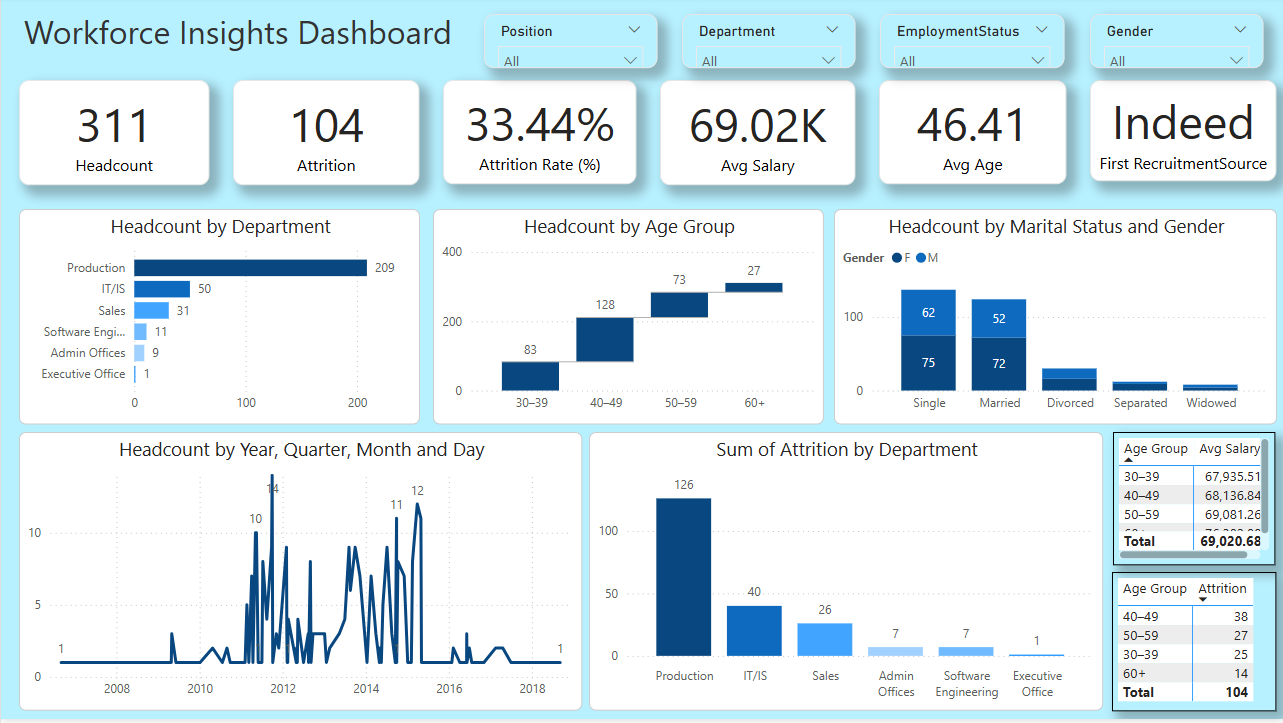

Layout of this report page (visuals, bound fields, positions):
{"tool":"powerbi","page":{"name":"Mainboard","canvas":[1280,720],"ordinal":0},"visuals":[{"type":"card","fields":{"Values":["Measures (2).Headcount"]},"box":[18.4,82.5,189.7,105.4],"z":0},{"type":"card","fields":{"Values":["Measures (2).Total Terminated Employees"]},"box":[231.5,82.5,186.1,105.4],"z":1000},{"type":"card","fields":{"Values":["Measures (2).Attrition Rate (%)"]},"box":[441,82.5,193.2,103.6],"z":2000},{"type":"card","fields":{"Values":["Measures (2).Average Salary"]},"box":[657.5,82.5,194.9,105.4],"z":3000},{"type":"card","fields":{"Values":["Min(HRDataset_v14.RecruitmentSource)"]},"box":[1086.1,82.5,186.1,101],"z":4000},{"type":"clusteredBarChart","fields":{"Y":["Measures (2).Headcount"],"Category":["HRDataset_v14.Department"]},"box":[18.4,211.6,400.4,215.1],"z":5000},{"type":"waterfallChart","fields":{"Category":["HRDataset_v14.Age Group","HRDataset_v14.DateofHire.Variation.Date Hierarchy.Year","HRDataset_v14.DateofHire.Variation.Date Hierarchy.Quarter","HRDataset_v14.DateofHire.Variation.Date Hierarchy.Month","HRDataset_v14.DateofHire.Variation.Date Hierarchy.Day"],"Y":["Measures (2).Headcount"]},"box":[431.1,211.6,389.9,215.1],"z":6000},{"type":"columnChart","title":"Headcount by Marital Status and Gender","fields":{"Y":["Measures (2).Headcount"],"Category":["HRDataset_v14.MaritalDesc"],"Series":["HRDataset_v14.Gender"]},"box":[830.6,211.6,441.7,215.1],"z":7000},{"type":"lineChart","fields":{"Y":["Measures (2).Headcount"],"Category":["HRDataset_v14.DateofHire.Variation.Date Hierarchy.Year","HRDataset_v14.DateofHire.Variation.Date Hierarchy.Quarter","HRDataset_v14.DateofHire.Variation.Date Hierarchy.Month","HRDataset_v14.DateofHire.Variation.Date Hierarchy.Day"]},"box":[18.4,433.8,562,278.3],"z":8000},{"type":"columnChart","fields":{"Y":["Sum(HRDataset_v14.Attrition)"],"Category":["HRDataset_v14.Department"]},"box":[586.5,433.8,512.8,278.3],"z":9000},{"type":"pivotTable","fields":{"Rows":["HRDataset_v14.Age Group"],"Values":["Measures (2).Avg Salary"]},"box":[1109.9,433.8,162.4,132.6],"z":10000},{"type":"pivotTable","fields":{"Rows":["HRDataset_v14.Age Group"],"Values":["Measures (2).Attrition"]},"box":[1108.1,573.4,164.2,138.7],"z":11000},{"type":"card","fields":{"Values":["Measures (2).Avg Age"]},"box":[875.8,82.5,187,104.5],"z":12000},{"type":"slicer","fields":{"Values":["HRDataset_v14.Gender"]},"box":[1086.1,16.7,173,53.6],"z":13000},{"type":"slicer","fields":{"Values":["HRDataset_v14.EmploymentStatus"]},"box":[877.2,16.7,184.4,53.6],"z":14000},{"type":"slicer","fields":{"Values":["HRDataset_v14.Department"]},"box":[679.6,16.7,173,53.6],"z":15000},{"type":"slicer","fields":{"Values":["HRDataset_v14.Position"]},"box":[482,16.7,173,53.6],"z":16000},{"type":"textbox","box":[18.4,7,463.6,63.2],"z":17000}]}

Visuals, with their boxes in screenshot pixels (x1, y1, x2, y2), scaled from the page's 1280x720 canvas onto the 1283x723 screenshot:
card - Measures (2).Headcount: 18 83 209 189
card - Measures (2).Total Terminated Employees: 232 83 419 189
card - Measures (2).Attrition Rate (%): 442 83 636 187
card - Measures (2).Average Salary: 659 83 854 189
card - Min(HRDataset_v14.RecruitmentSource): 1089 83 1275 184
clusteredBarChart - Measures (2).Headcount x HRDataset_v14.Department: 18 212 420 428
waterfallChart - HRDataset_v14.Age Group x HRDataset_v14.DateofHire.Variation.Date Hierarchy.Year: 432 212 823 428
"Headcount by Marital Status and Gender" columnChart: 833 212 1275 428
lineChart - Measures (2).Headcount x HRDataset_v14.DateofHire.Variation.Date Hierarchy.Year: 18 436 582 715
columnChart - Sum(HRDataset_v14.Attrition) x HRDataset_v14.Department: 588 436 1102 715
pivotTable - HRDataset_v14.Age Group x Measures (2).Avg Salary: 1113 436 1275 569
pivotTable - HRDataset_v14.Age Group x Measures (2).Attrition: 1111 576 1275 715
card - Measures (2).Avg Age: 878 83 1065 188
slicer - HRDataset_v14.Gender: 1089 17 1262 71
slicer - HRDataset_v14.EmploymentStatus: 879 17 1064 71
slicer - HRDataset_v14.Department: 681 17 855 71
slicer - HRDataset_v14.Position: 483 17 657 71
textbox: 18 7 483 70
